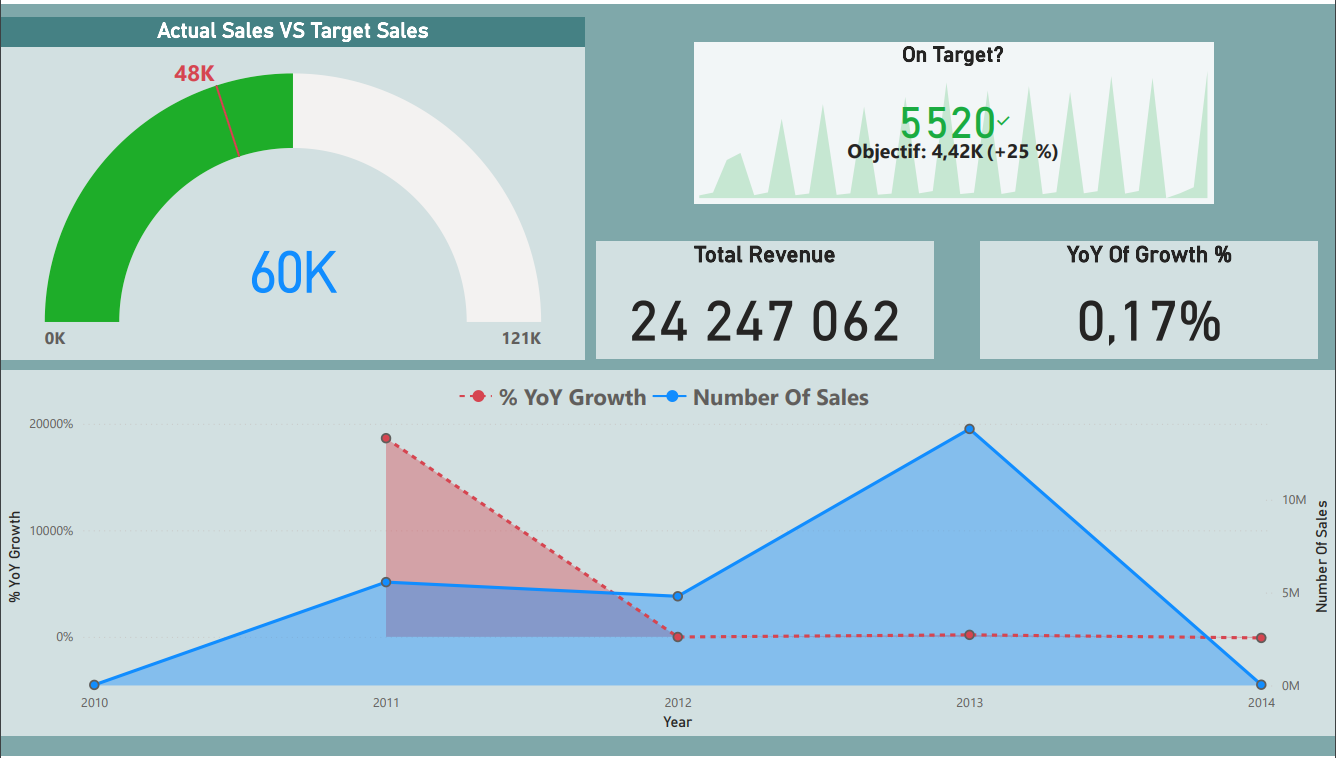

What the dashboard file says about the page in this screenshot:
{"tool":"powerbi","page":{"name":"ToolTip","canvas":[1280,720],"ordinal":1},"visuals":[{"type":"gauge","title":"Actual Sales VS Target Sales","fields":{"Y":["#Measures.Number of Sales"],"TargetValue":["#Measures.Targe sales"]},"box":[0,13.2,560.3,327.9],"z":0},{"type":"kpi","title":"On Target?","fields":{"TrendLine":["Calendar Table.Month Year"],"Goal":["#Measures.Targe sales"],"Indicator":["#Measures.Number of Sales"]},"box":[665.5,35.7,497.6,154.8],"z":1000},{"type":"card","title":"Total Revenue","fields":{"Values":["#Measures.Currency Conversion"]},"box":[571.4,227.4,323.8,113.1],"z":2000},{"type":"card","title":"YoY Of Growth %","fields":{"Values":["#Measures.% Sales YoY Growth"]},"box":[940.5,227.4,323.8,113.1],"z":3000},{"type":"areaChart","fields":{"Y":["#Measures.% Sales YoY Growth"],"Y2":["#Measures.Currency Conversion"],"Category":["Calendar Table.Year"]},"box":[0,351.2,1279.8,350],"z":4000}]}

Visuals, with their boxes in screenshot pixels (x1, y1, x2, y2), scaled from the page's 1280x720 canvas onto the 1336x758 screenshot:
"Actual Sales VS Target Sales" gauge: crop(0, 14, 585, 359)
"On Target?" kpi: crop(695, 38, 1214, 201)
"Total Revenue" card: crop(596, 239, 934, 358)
"YoY Of Growth %" card: crop(982, 239, 1320, 358)
areaChart - #Measures.% Sales YoY Growth x #Measures.Currency Conversion: crop(0, 370, 1335, 738)
